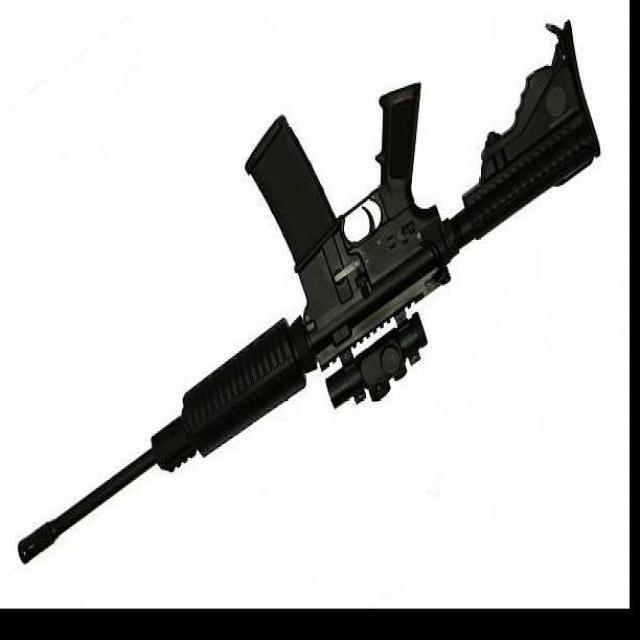weapon: (17, 18, 602, 567)
